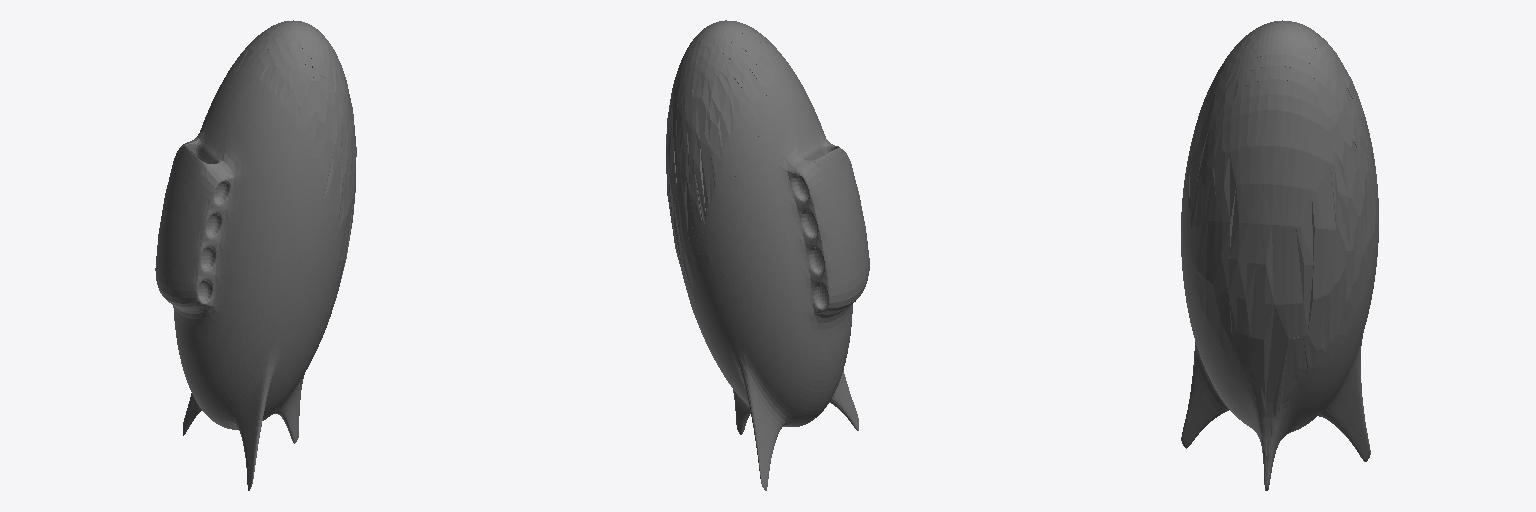
URDF robot description (airplane):
<?xml version="1.0" ?>
<robot name="airplane">
  <link name="planeLink">
  <contact>
      <lateral_friction value="1"/>
  </contact>
    <collision>
      <origin xyz="+0.0 +0.0 +0.0" rpy="0 0 0" />
      <geometry>
        <mesh scale="0.1 0.1 0.1" filename="meshes/zeppelin.stl"/>
      </geometry>
       <material name="grey">
        <color rgba="0.5 0.5 0.5 0.5"/>
      </material>
    </collision>
    <visual>
      <origin xyz="+0.0 +0.0 +0.0" rpy="0 0 0"/>
      <geometry>
        <mesh scale="0.1 0.1 0.1" filename="meshes/zeppelin.stl"/>
      </geometry>
       <material name="grey">
        <color rgba="0.5 0.5 0.5 0.5"/>
      </material>
    </visual>
    <inertial>
      <mass value="10"/>
      <inertia ixx="1e-6" ixy="0.0" ixz="0.0" iyy="0.083" iyz="0.0" izz="0.083"/>
    </inertial>
  </link>
</robot>

--- What the picture shows (computed from the rendered views, not written in the file) ---
The picture shows the robot from 3 angles, left to right: view 1: azimuth 30°, elevation 25°; view 2: azimuth 150°, elevation 25°; view 3: azimuth 270°, elevation 25°; orthographic projection.
Robot: airplane — 1 links, 0 joints (none); root link planeLink; default pose: every joint at zero.
Visible links, largest first — view 1: planeLink; view 2: planeLink; view 3: planeLink.
Link boxes in pixels (<box>): planeLink: <box>155,20,356,490</box>; planeLink: <box>666,20,869,490</box>; planeLink: <box>1181,20,1378,490</box>.
Bounding box of the posed robot: 0.0955 × 0.0796 × 0.2123 m (x, y, z).
1 mesh visuals loaded from 1 distinct referenced files (1 binary STL).
